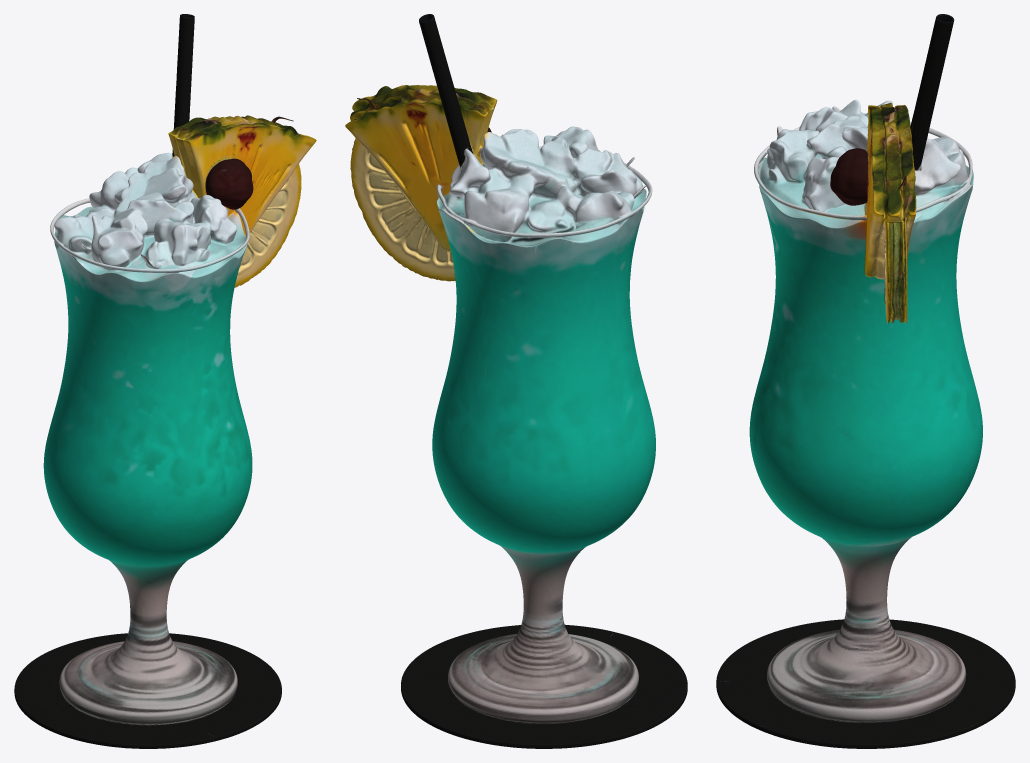
The model's file is Tropical_Blue_Hawaiia.glb.
The picture shows the model from 3 angles, left to right: view 1: azimuth 30°, elevation 25°; view 2: azimuth 150°, elevation 25°; view 3: azimuth 270°, elevation 25°; orthographic projection. The views are drawn at different scales.
Parts seen in each view (by area): view 1: Mesh_0.001; view 2: Mesh_0.001; view 3: Mesh_0.001.
Part boxes in pixels (x1=…): Mesh_0.001: x1=14, y1=14, x2=316, y2=748; Mesh_0.001: x1=345, y1=14, x2=687, y2=748; Mesh_0.001: x1=716, y1=14, x2=1015, y2=748.
Bounding box in the file's own units: 0.4573 × 0.96 × 0.3668.
1 material, 1 textured.
